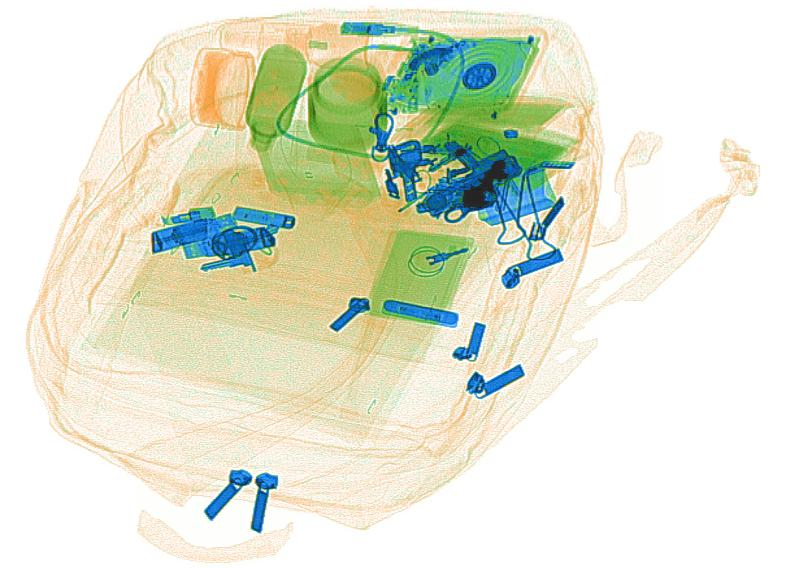USBFlashDisk: (182, 224, 278, 263), (149, 210, 235, 253)
plasticBottleWithaNozzle: (215, 14, 375, 74)
